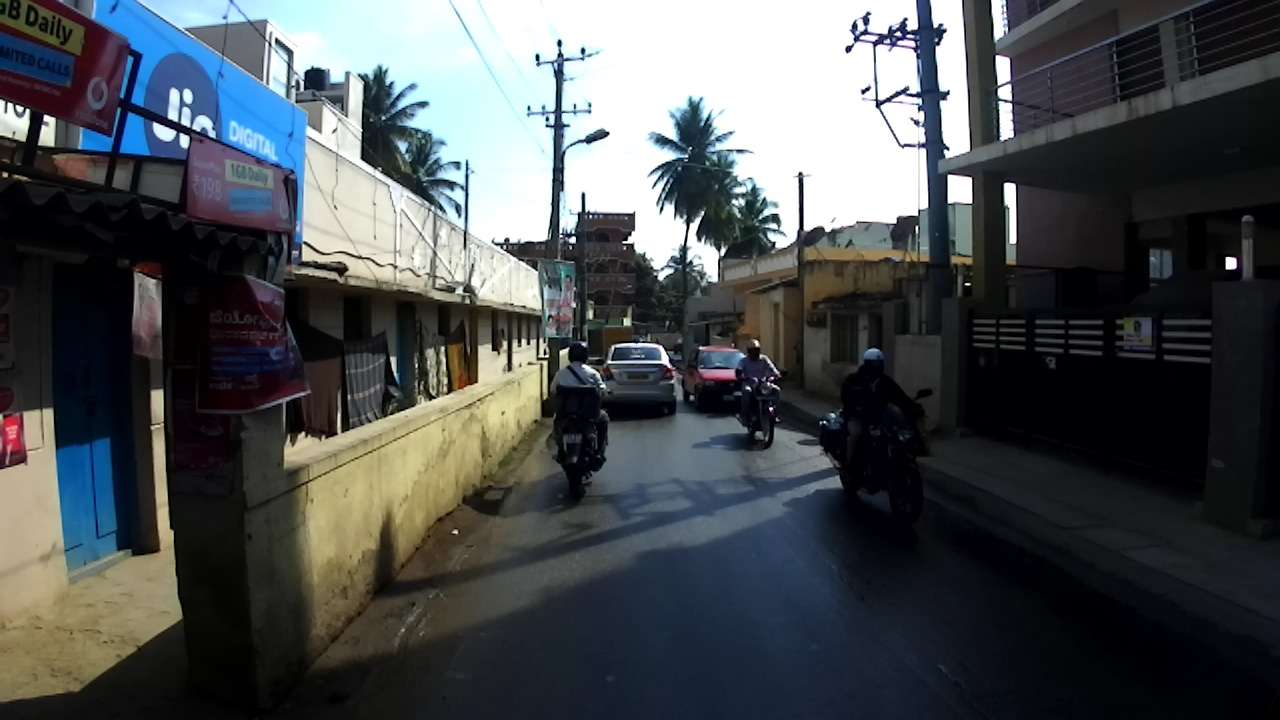car: (595, 342, 678, 416), (681, 345, 748, 413), (673, 338, 683, 353)
motorcycle: (818, 388, 933, 523), (553, 389, 613, 502), (734, 369, 790, 447)
rider: (840, 346, 924, 492), (549, 341, 611, 464), (735, 340, 784, 427)
truck: (601, 324, 634, 358)
vehicle fallback: (634, 335, 650, 344)
